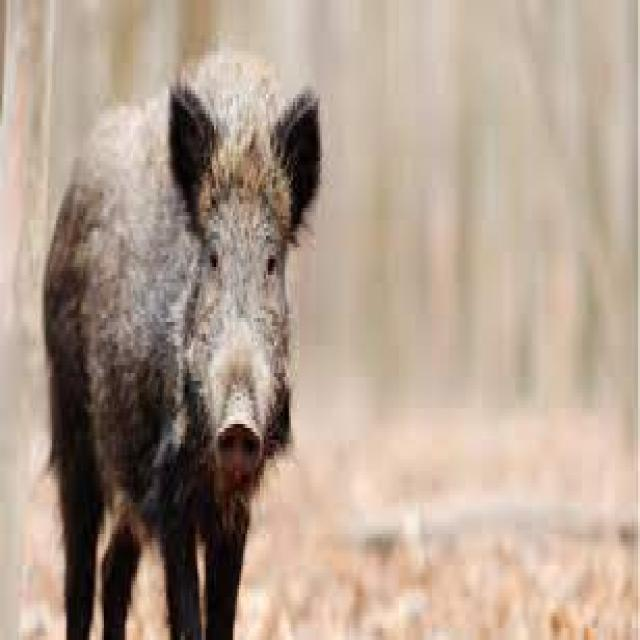boar: (27, 45, 348, 640)
